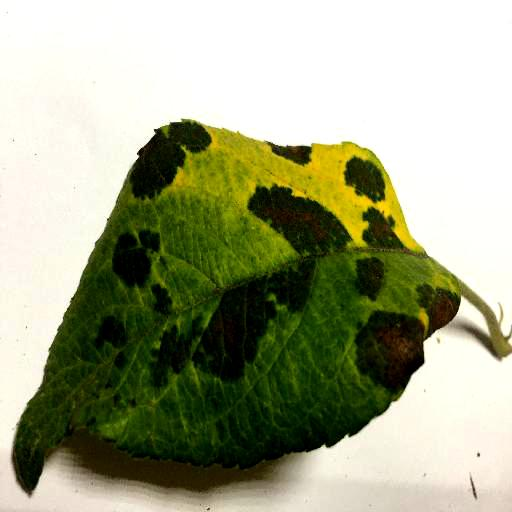Brown_Spot: (250, 193, 339, 243), (359, 316, 420, 388), (211, 291, 254, 372), (133, 127, 187, 189), (111, 240, 160, 281), (155, 329, 191, 372), (272, 267, 311, 306), (417, 288, 455, 325), (345, 159, 387, 192), (98, 323, 135, 351), (371, 216, 401, 248), (359, 263, 384, 293), (143, 289, 170, 313), (274, 146, 316, 160)
